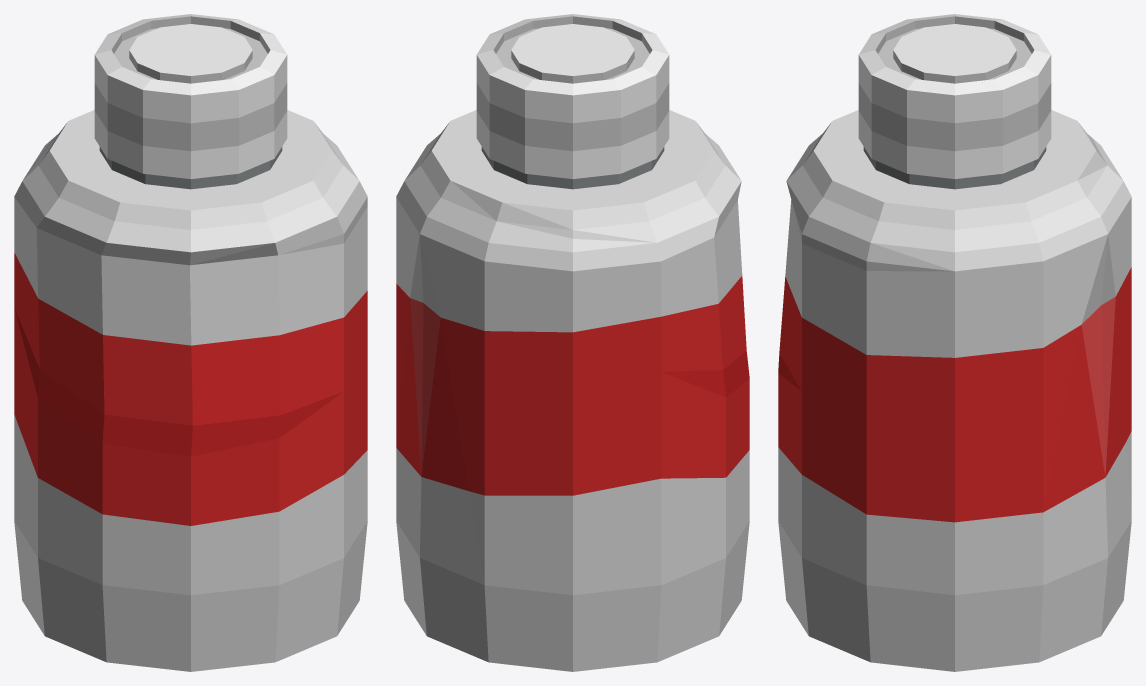
File: mesh_pills_red.fbx
The picture shows the model from 3 angles, left to right: view 1: azimuth 30°, elevation 25°; view 2: azimuth 150°, elevation 25°; view 3: azimuth 270°, elevation 25°; orthographic projection.
Visible parts, largest first — view 1: mesh_pills_red; view 2: mesh_pills_red; view 3: mesh_pills_red.
Boxes of the visible parts, box(x1,y1,x2,y2) form: mesh_pills_red: box(14, 14, 367, 671); mesh_pills_red: box(396, 14, 749, 671); mesh_pills_red: box(778, 14, 1131, 671).
Bounding box in the file's own units: 0.1559 × 0.2679 × 0.1559.
